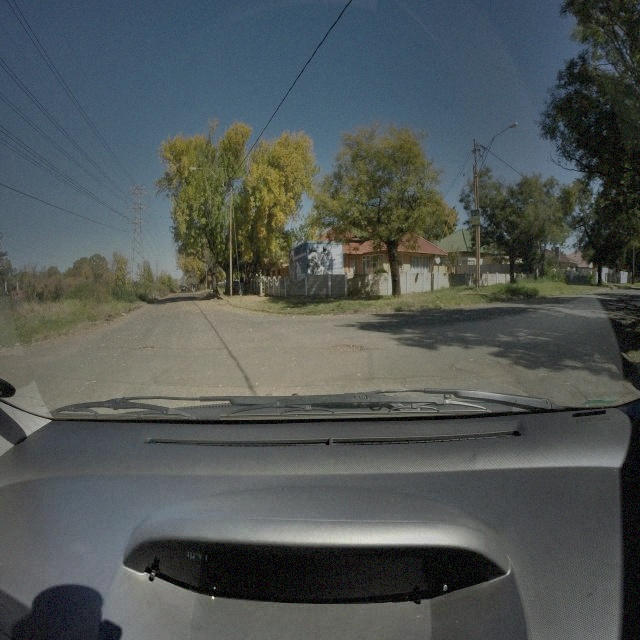pothole: (329, 342, 365, 355), (140, 343, 156, 352)
